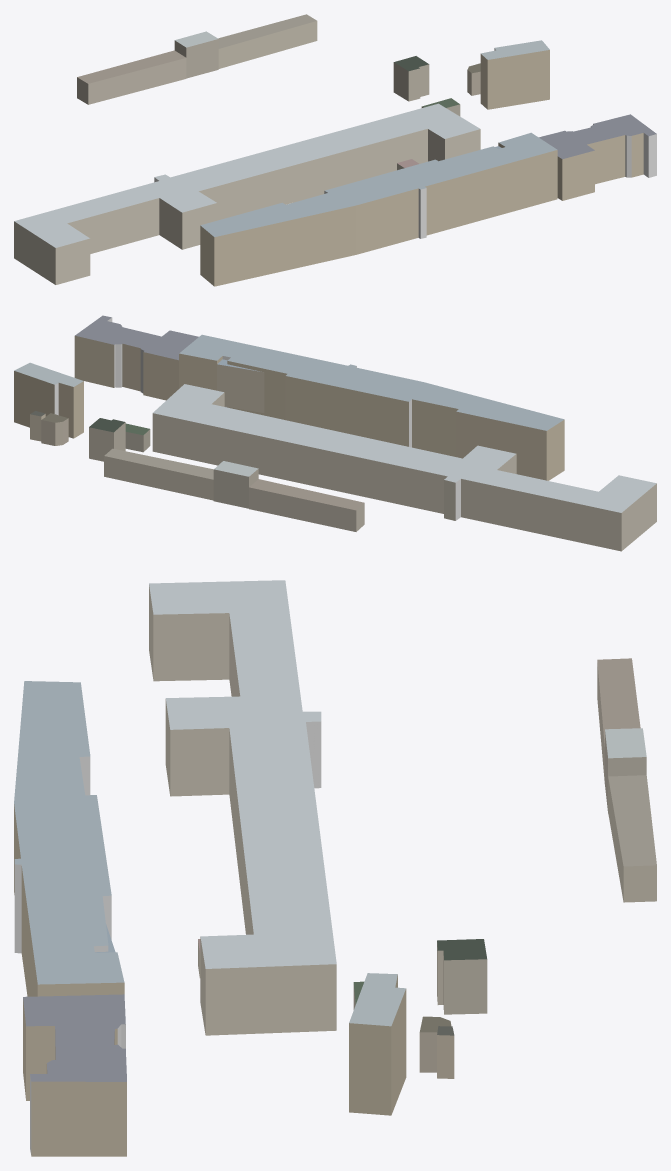
3 views of the same model, one above another, from view 1: azimuth 30°, elevation 25°; view 2: azimuth 150°, elevation 25°; view 3: azimuth 270°, elevation 25° (orthographic). The views are drawn at different scales.
Parts seen in each view (by area): view 1: tuile; view 2: tuile; view 3: tuile.
Part boxes in pixels (x1,y1,x2,y2): tuile: (14, 14, 656, 286); tuile: (14, 315, 656, 551); tuile: (14, 580, 656, 1156).
Bounding box in the file's own units: 184 × 27.02 × 99.99.
